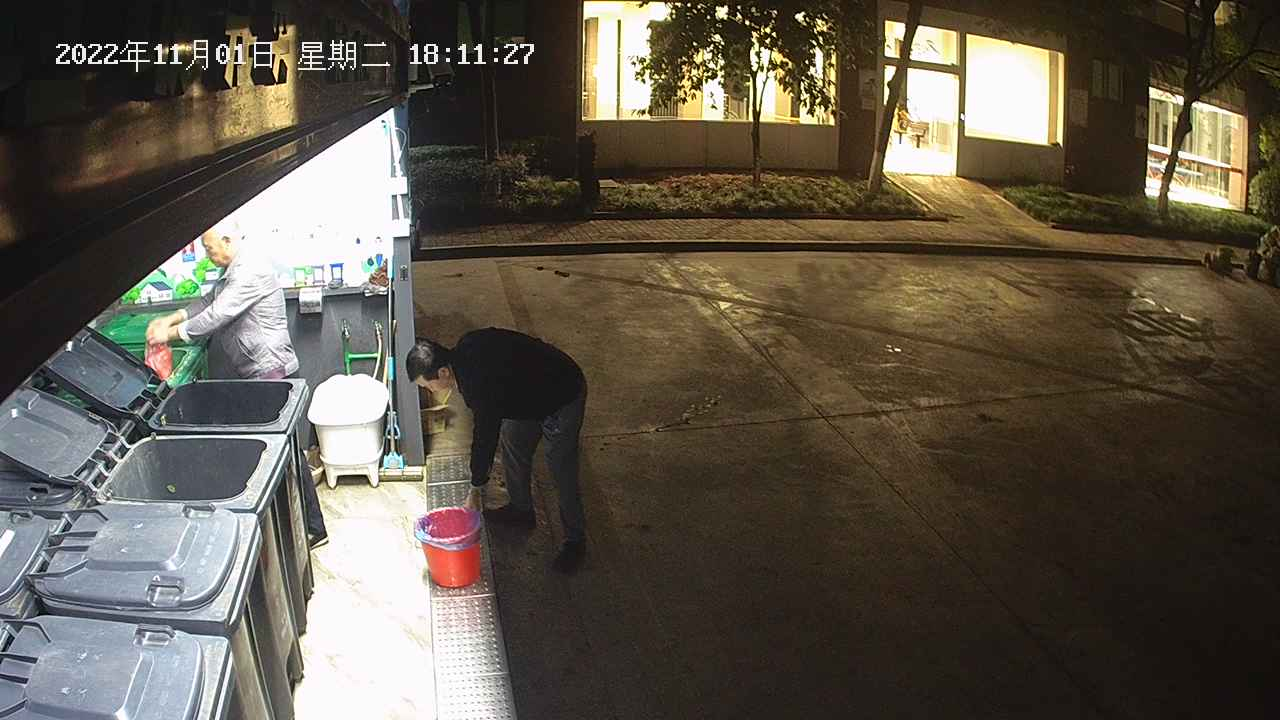garbage-bag: (142, 335, 175, 381)
person: (404, 325, 591, 577), (142, 214, 303, 380)
youtong: (412, 505, 486, 589)
